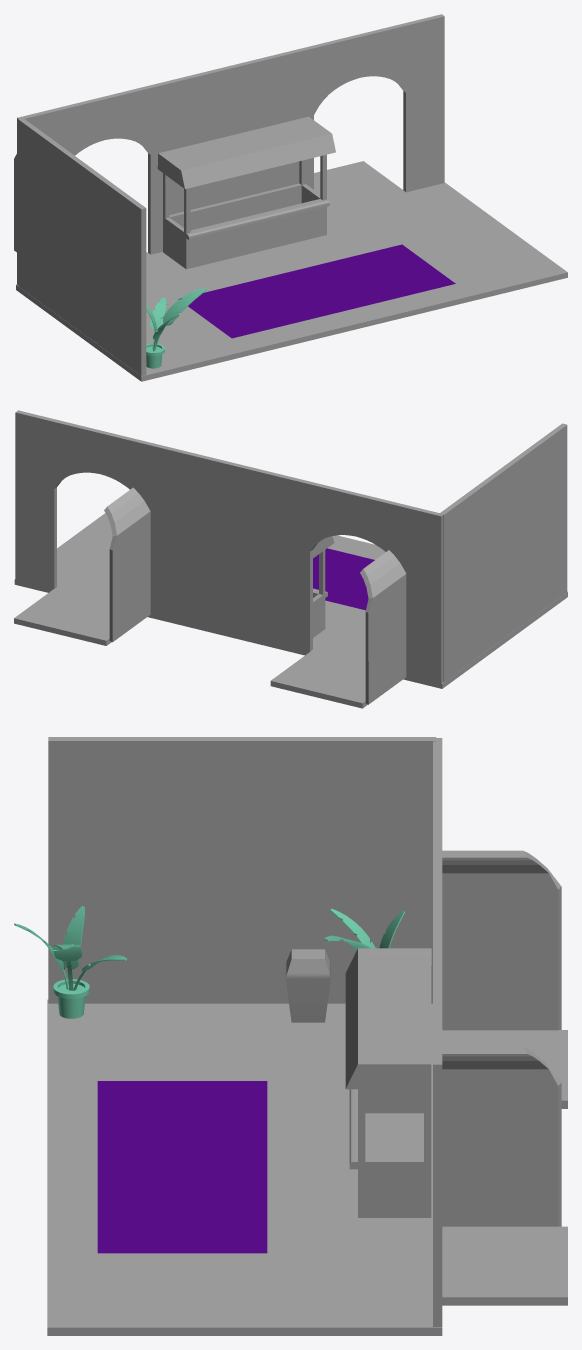
The model's file is Test_ArcadeEntrance 5.fbx.
3 views of the same model, one above another, from view 1: azimuth 30°, elevation 25°; view 2: azimuth 150°, elevation 25°; view 3: azimuth 270°, elevation 25° (orthographic). The views are drawn at different scales.
Visible parts, largest first — view 1: polySurface6, polySurface3, pCube3, polySurface1, Rug_bitchasklfjf_v, Big_plant1; view 2: polySurface6, pCube3, polySurface3, polySurface10, polySurface9, Rug_bitchasklfjf_v, polySurface1; view 3: polySurface3, pCube3, Rug_bitchasklfjf_v, polySurface10, polySurface9, polySurface1, polySurface6, pCube17, Big_plant1, Big_plant.
Boxes of the visible parts, x1,y1,x2,y2 form: polySurface6: [17, 14, 444, 284]; polySurface3: [16, 161, 567, 381]; pCube3: [18, 118, 146, 375]; polySurface1: [157, 116, 335, 269]; Rug_bitchasklfjf_v: [178, 244, 455, 338]; Big_plant1: [146, 288, 206, 368]; polySurface6: [15, 410, 443, 684]; pCube3: [439, 423, 567, 681]; polySurface3: [14, 513, 567, 708]; polySurface10: [360, 550, 406, 704]; polySurface9: [104, 487, 150, 642]; Rug_bitchasklfjf_v: [313, 548, 374, 610]; polySurface1: [313, 536, 334, 637]; polySurface3: [47, 999, 567, 1335]; pCube3: [48, 737, 436, 1003]; Rug_bitchasklfjf_v: [97, 1081, 267, 1253]; polySurface10: [442, 850, 561, 1030]; polySurface9: [442, 1046, 561, 1226]; polySurface1: [345, 948, 431, 1217]; polySurface6: [433, 738, 442, 1326]; pCube17: [285, 949, 330, 1022]; Big_plant1: [14, 906, 127, 1018]; Big_plant: [324, 908, 404, 950].
Bounding box in the file's own units: 1310 × 505 × 936.
